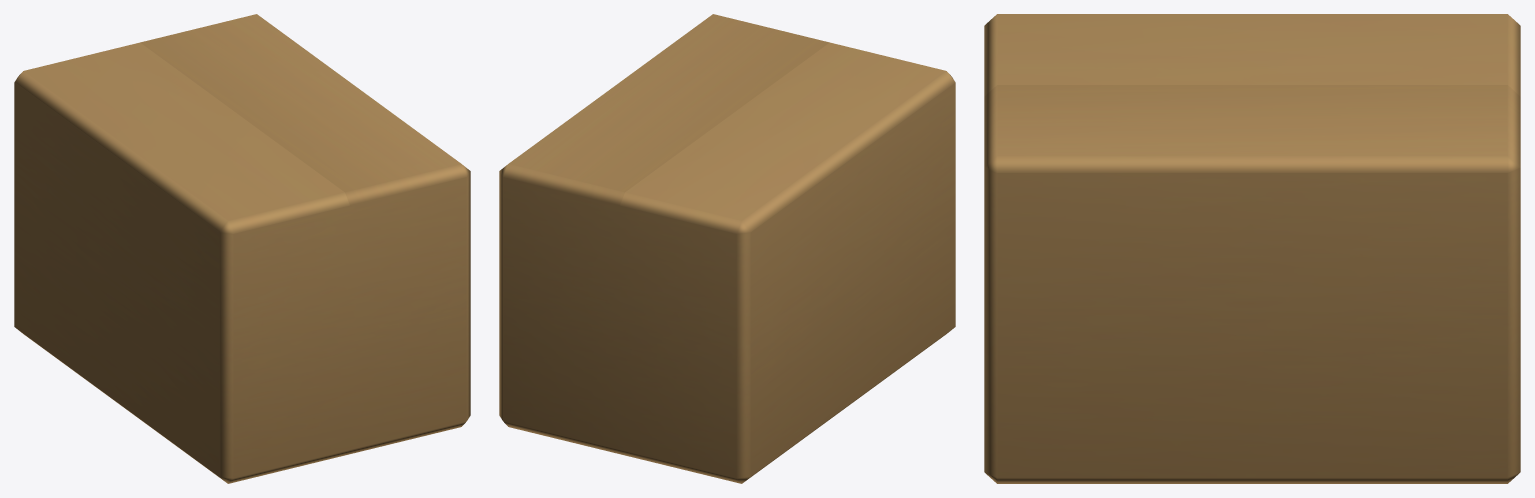
Rendered from box_cardboard_large_rectangle_closed.fbx.
3 renders of one model, left to right at view 1: azimuth 30°, elevation 25°; view 2: azimuth 150°, elevation 25°; view 3: azimuth 270°, elevation 25°, orthographic. The views are drawn at different scales.
Visible parts, largest first — view 1: box_cardboard_large_rectangle_closed; view 2: box_cardboard_large_rectangle_closed; view 3: box_cardboard_large_rectangle_closed.
Boxes of the visible parts, bbox=[...] form: box_cardboard_large_rectangle_closed: bbox=[14, 14, 470, 483]; box_cardboard_large_rectangle_closed: bbox=[499, 14, 955, 483]; box_cardboard_large_rectangle_closed: bbox=[984, 14, 1520, 483].
Bounding box in the file's own units: 104 × 104 × 154.
